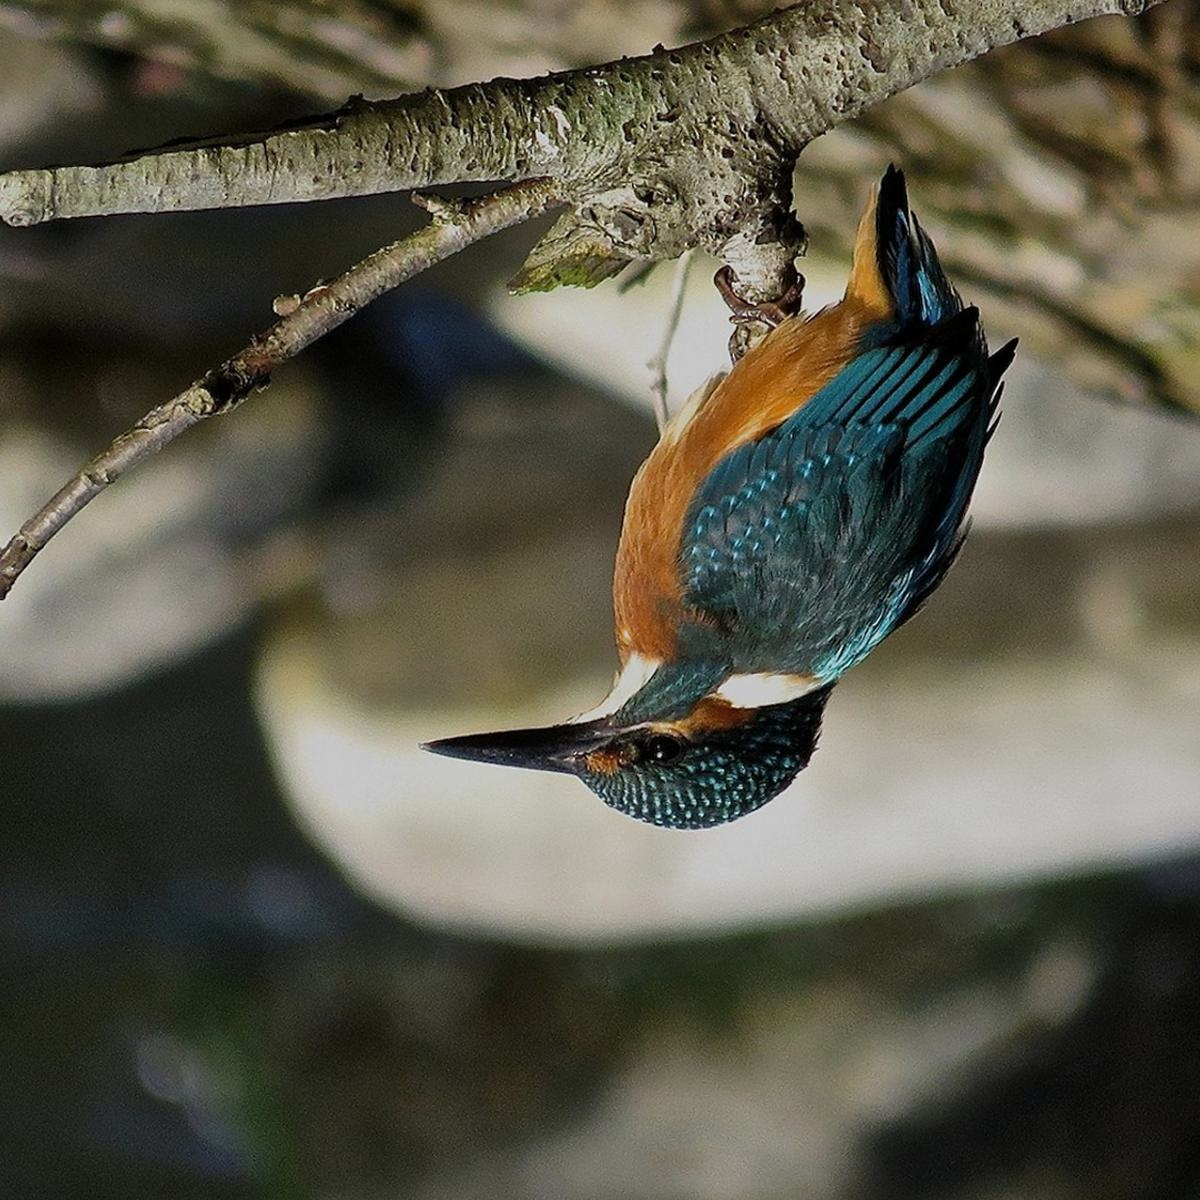kingfisher: (426, 135, 1055, 843)
